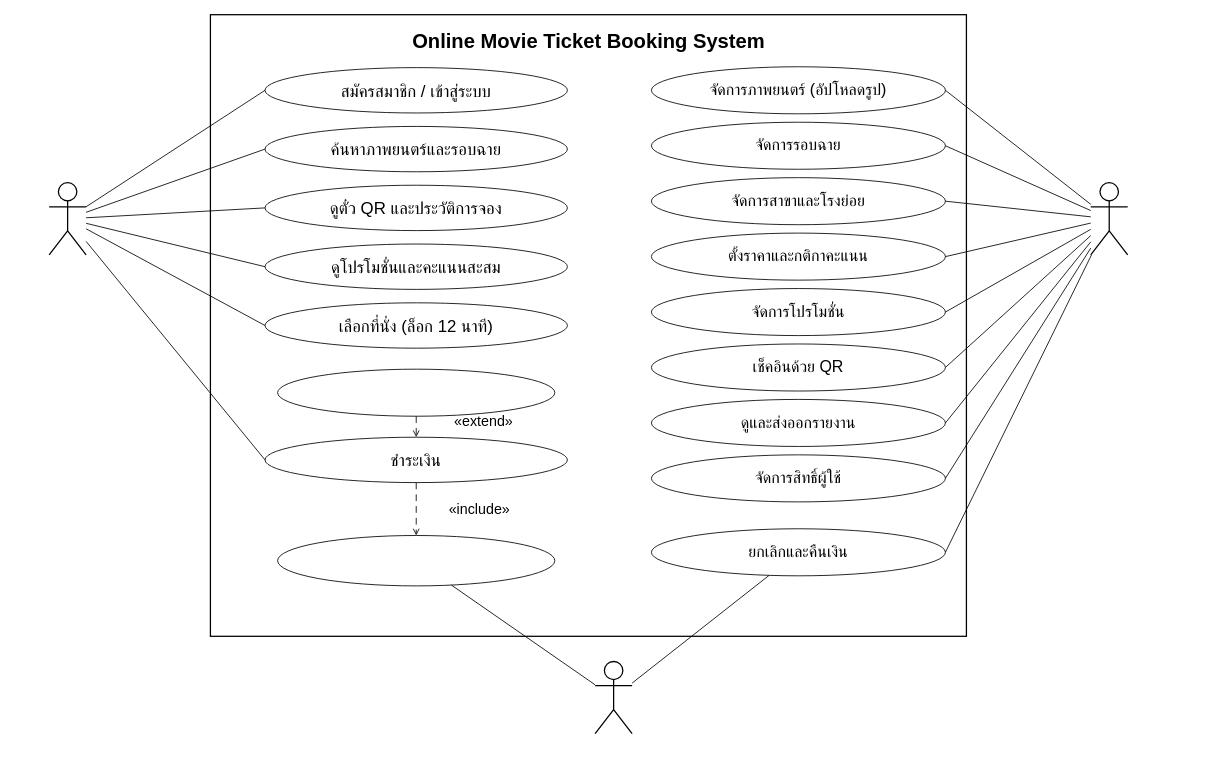
Some shapes in this 1211 by 774 pixel diagram are drawn without their labels. The shapes that lost their labels are listed below. From the top down, each one's centre as x and y in pixels, then its label:
point (67, 218): ลูกค้า
point (1109, 218): ผู้ดูแลระบบ
point (416, 392): ใช้โค้ดส่วนลด / แลกคะแนน
point (416, 560): ตรวจผลการชำระเงิน
point (613, 697): Stripe (ระบบชำระเงิน)
